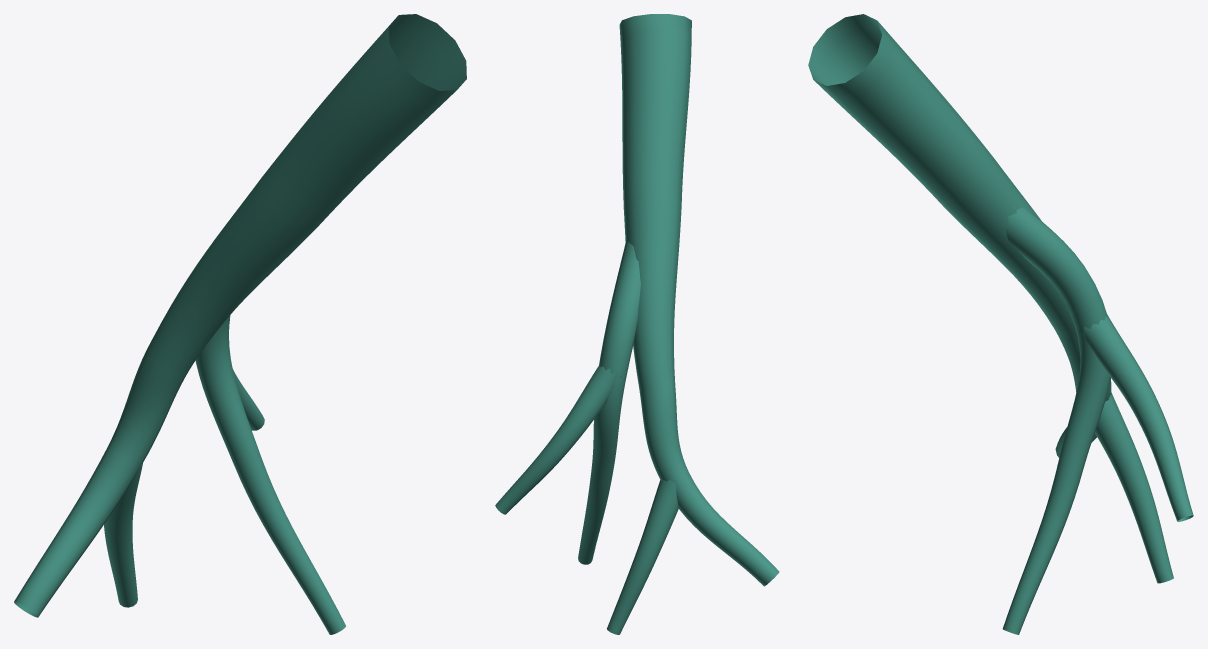
The picture shows the model from 3 angles, left to right: view 1: azimuth 30°, elevation 25°; view 2: azimuth 150°, elevation 25°; view 3: azimuth 270°, elevation 25°; orthographic projection. The views are drawn at different scales.
Parts seen in each view (by area): view 1: 右肺内侧段支气管（第5段）; view 2: 右肺内侧段支气管（第5段）; view 3: 右肺内侧段支气管（第5段）.
Boxes of the visible parts, x1,y1,x2,y2 form: 右肺内侧段支气管（第5段）: [14, 14, 466, 634]; 右肺内侧段支气管（第5段）: [495, 14, 779, 634]; 右肺内侧段支气管（第5段）: [808, 14, 1193, 634].
Bounding box in the file's own units: 0.0571 × 0.1139 × 0.0651.
